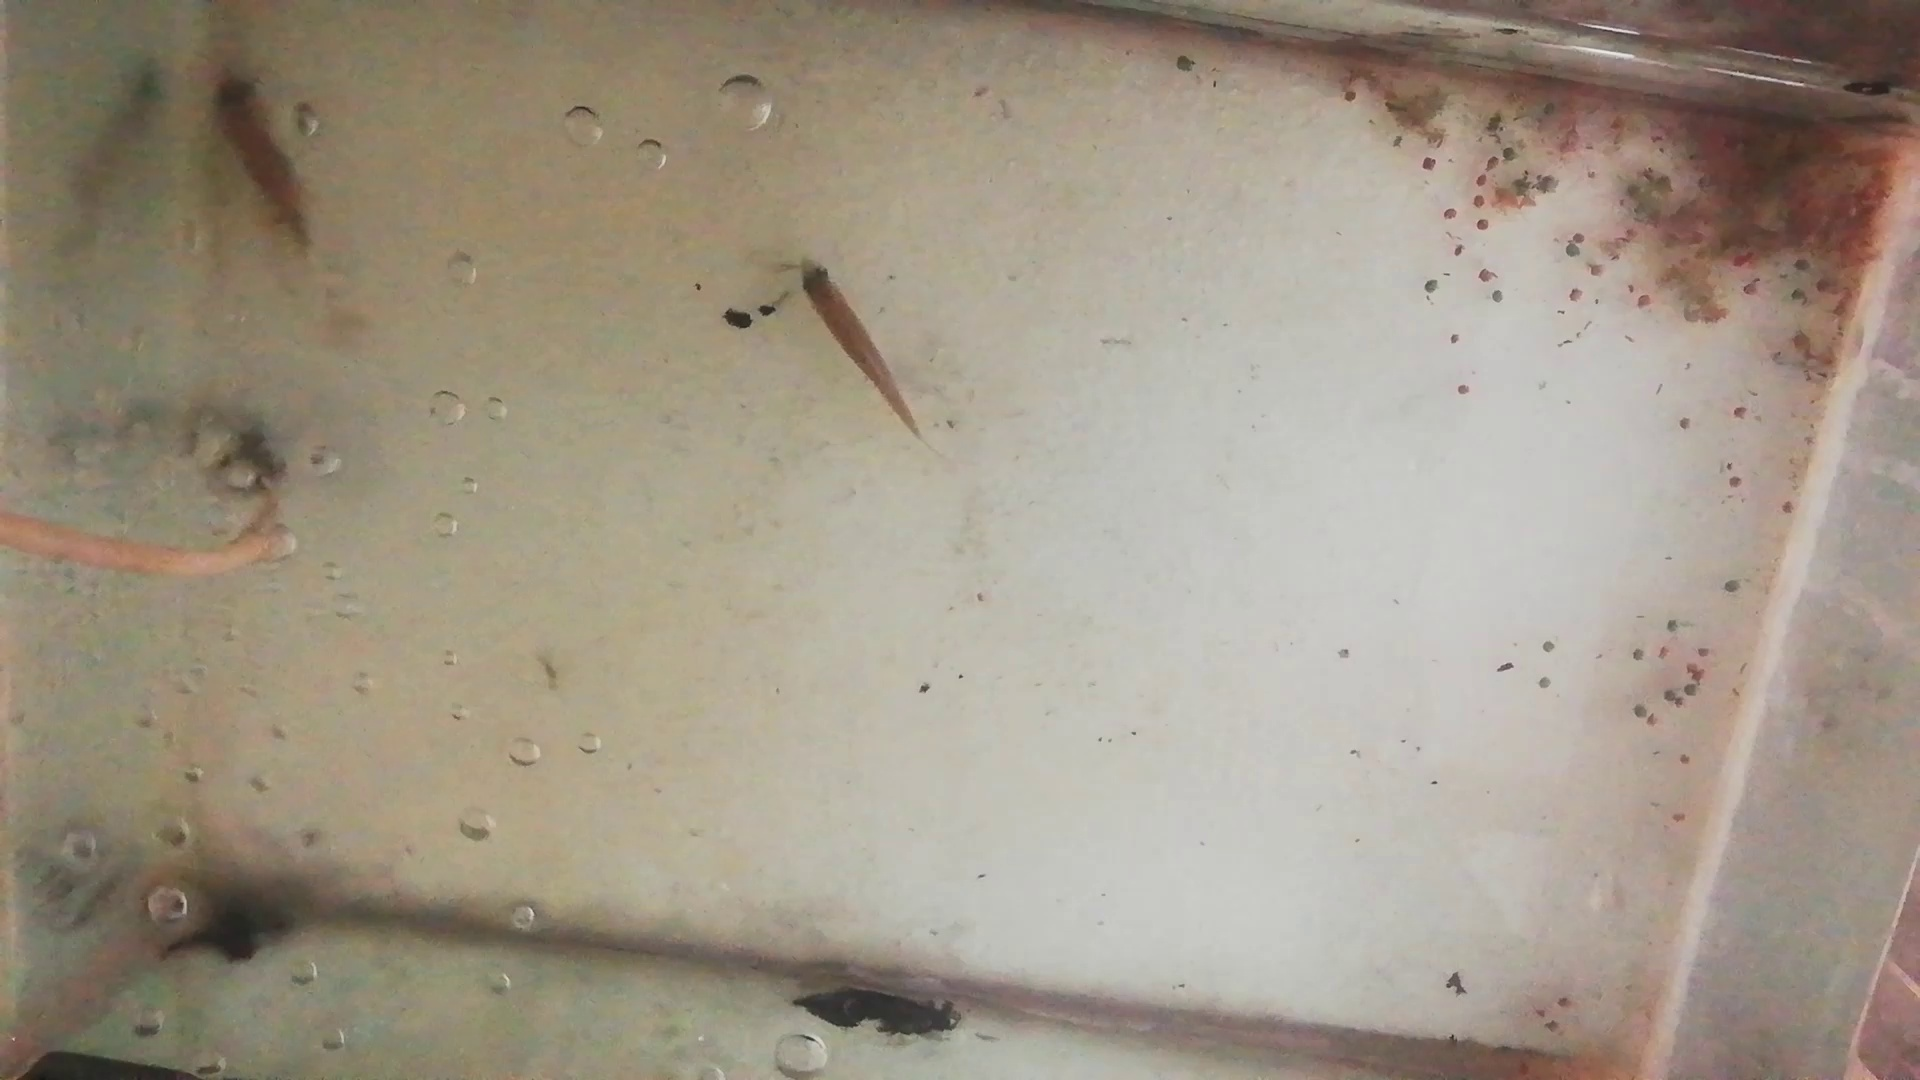fish: (796, 255, 916, 438), (208, 62, 320, 237)
